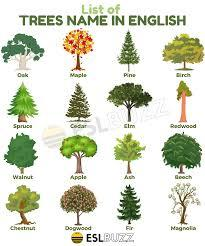tree: (106, 83, 153, 123), (1, 32, 47, 71), (59, 133, 99, 175), (162, 32, 205, 71), (163, 134, 203, 175), (61, 185, 99, 227), (63, 28, 96, 72), (6, 133, 40, 175), (168, 182, 202, 224), (7, 185, 42, 225), (8, 82, 40, 123), (115, 133, 147, 173), (65, 81, 93, 120), (118, 183, 143, 226), (118, 30, 140, 71), (175, 80, 194, 123)
